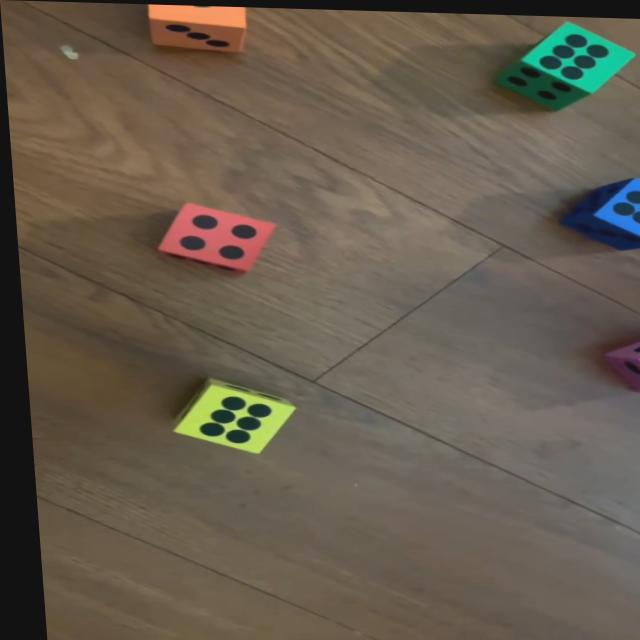blue_block: (555, 171, 640, 248)
red_block: (153, 201, 273, 271)
